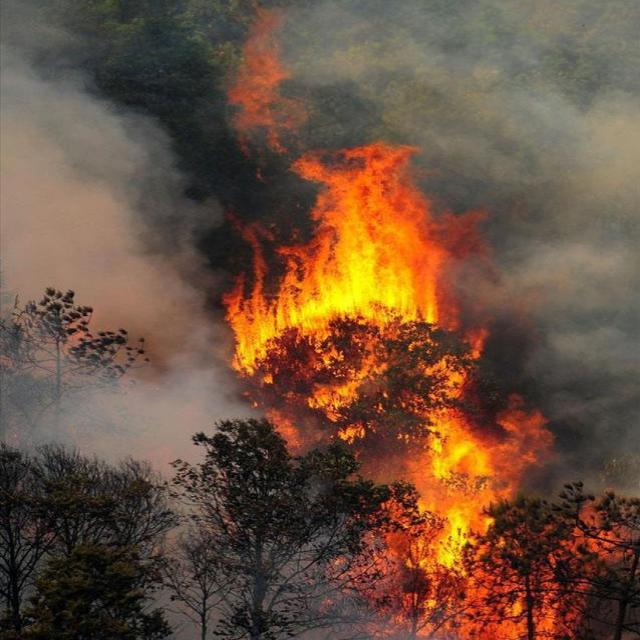fire: (207, 154, 605, 640), (222, 22, 308, 152)
smoke: (11, 3, 290, 269)
